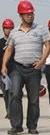boots: (7, 127, 22, 133), (28, 128, 38, 134)
gloves: (2, 73, 11, 90)
hard-hat: (1, 19, 13, 28)
